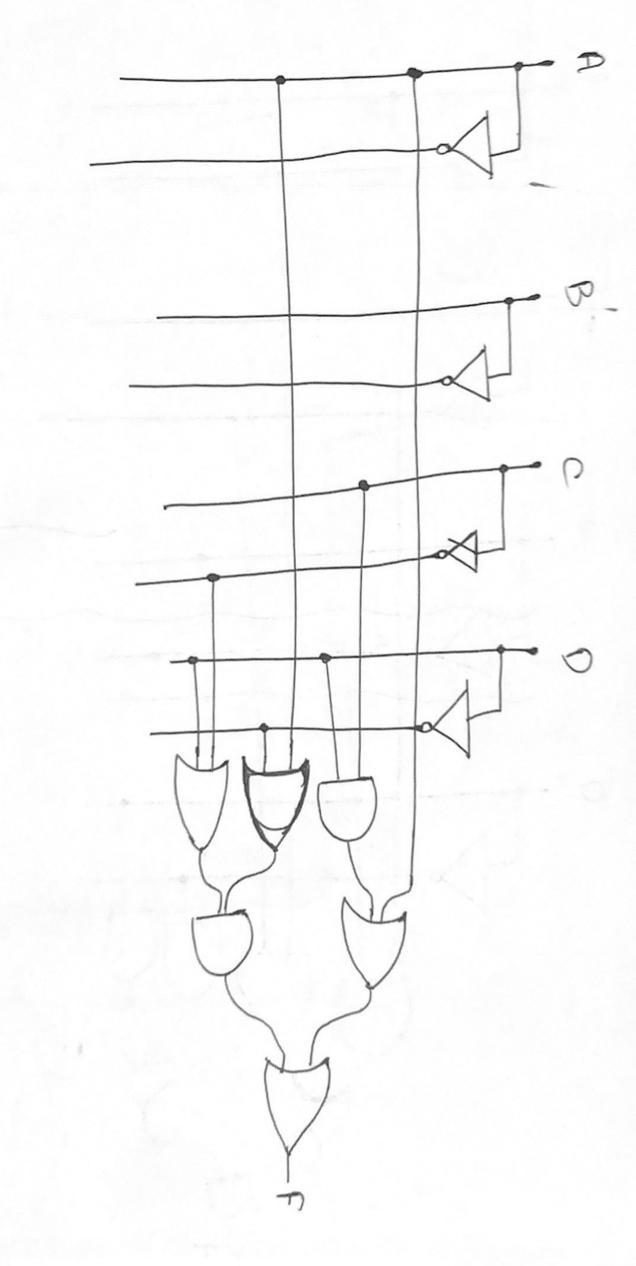AND: (182, 905, 274, 995), (313, 775, 386, 851)
NOT: (430, 110, 508, 190), (435, 345, 507, 425), (422, 681, 492, 762), (425, 521, 494, 594)
OR: (245, 1045, 357, 1172), (330, 890, 431, 1015), (157, 745, 232, 860), (240, 750, 313, 860)
